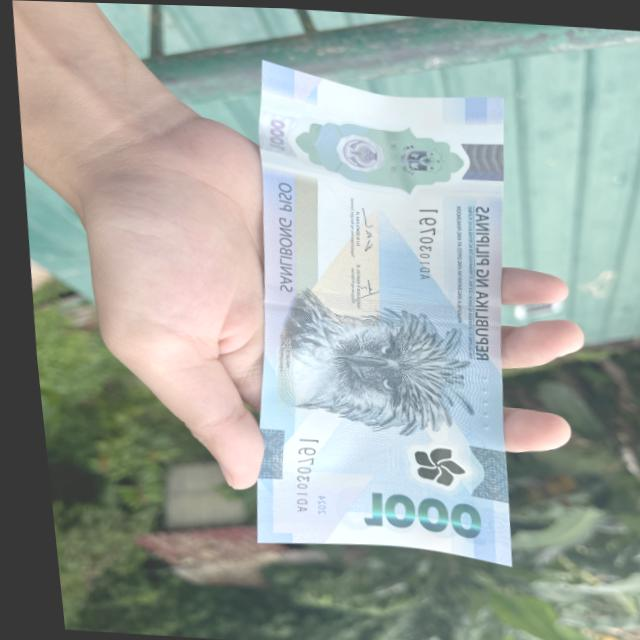clear_window: (250, 95, 504, 201)
eagle: (262, 287, 475, 437)
sampaguita: (370, 433, 468, 491)
security_thread: (256, 286, 494, 315)
serial_number: (396, 195, 447, 287), (275, 433, 315, 513)
